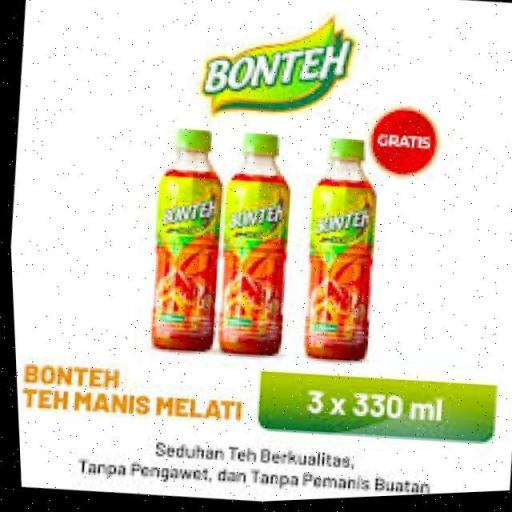plastic: (129, 120, 241, 366), (201, 121, 307, 367), (288, 129, 388, 374)
